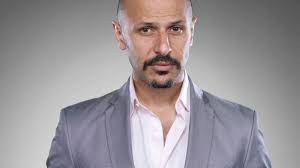middle_eastern_male: (122, 1, 203, 96)
